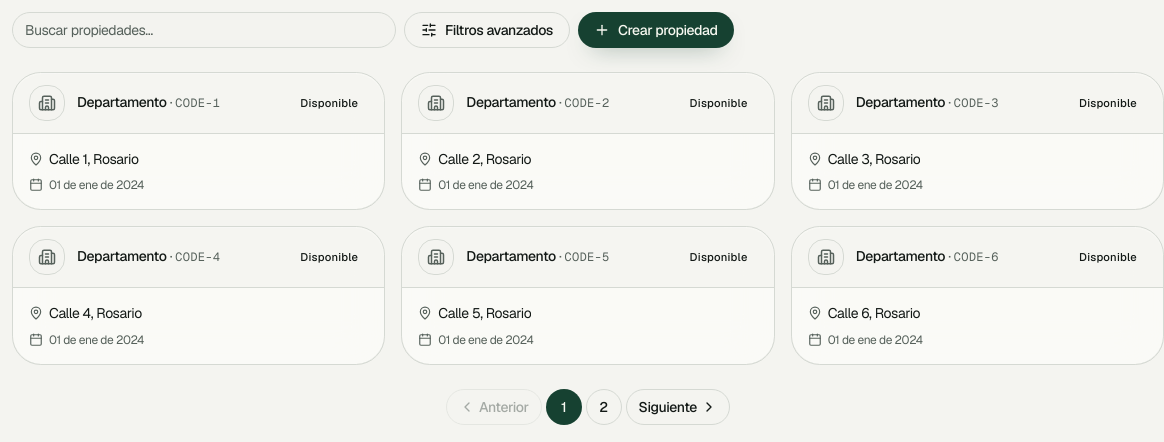
Scenario: PropertyList › resets to page 1 when the query changes
Click the button with test id "pagination-page-2": (604, 406) [586, 388, 622, 424]
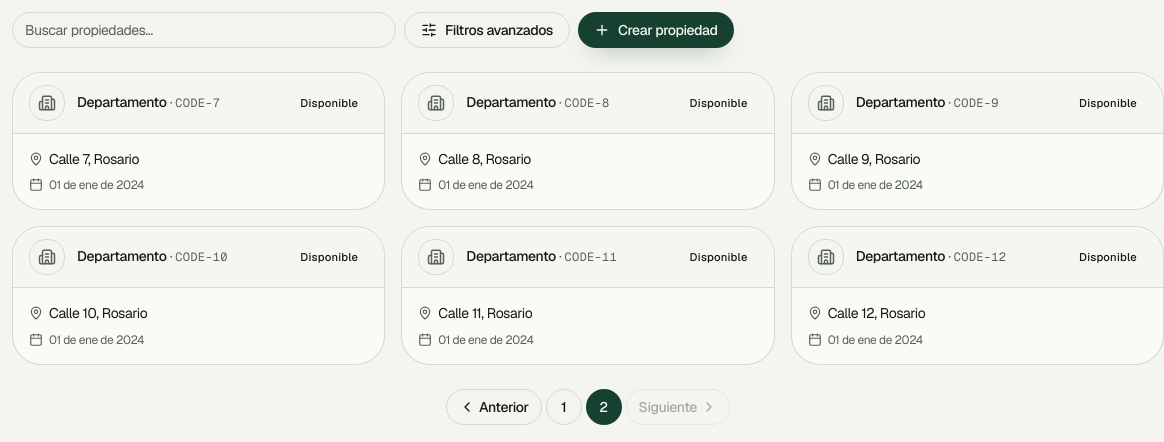
Expected: the text with test id "pagination-current" reads "2", [599, 398, 608, 416]
In the search field with test id "property-toolbar-search": (204, 30) [12, 12, 396, 48], type "code-3"
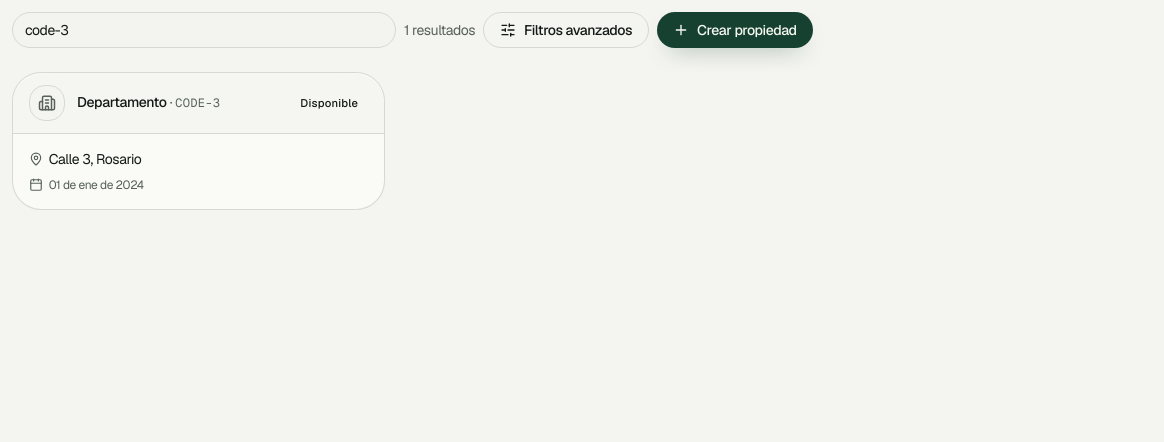
Expected: the element that starts with "Departamento" shows "Calle 3,", [49, 150, 142, 168]
Expected: the navigation bar with test id "property-pagination" is gone
